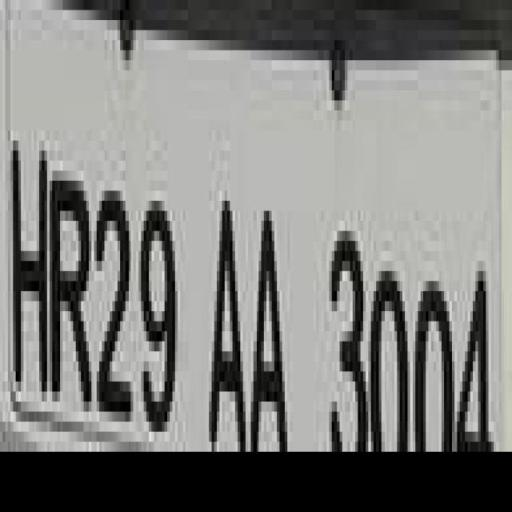number plate: (0, 10, 494, 482)
